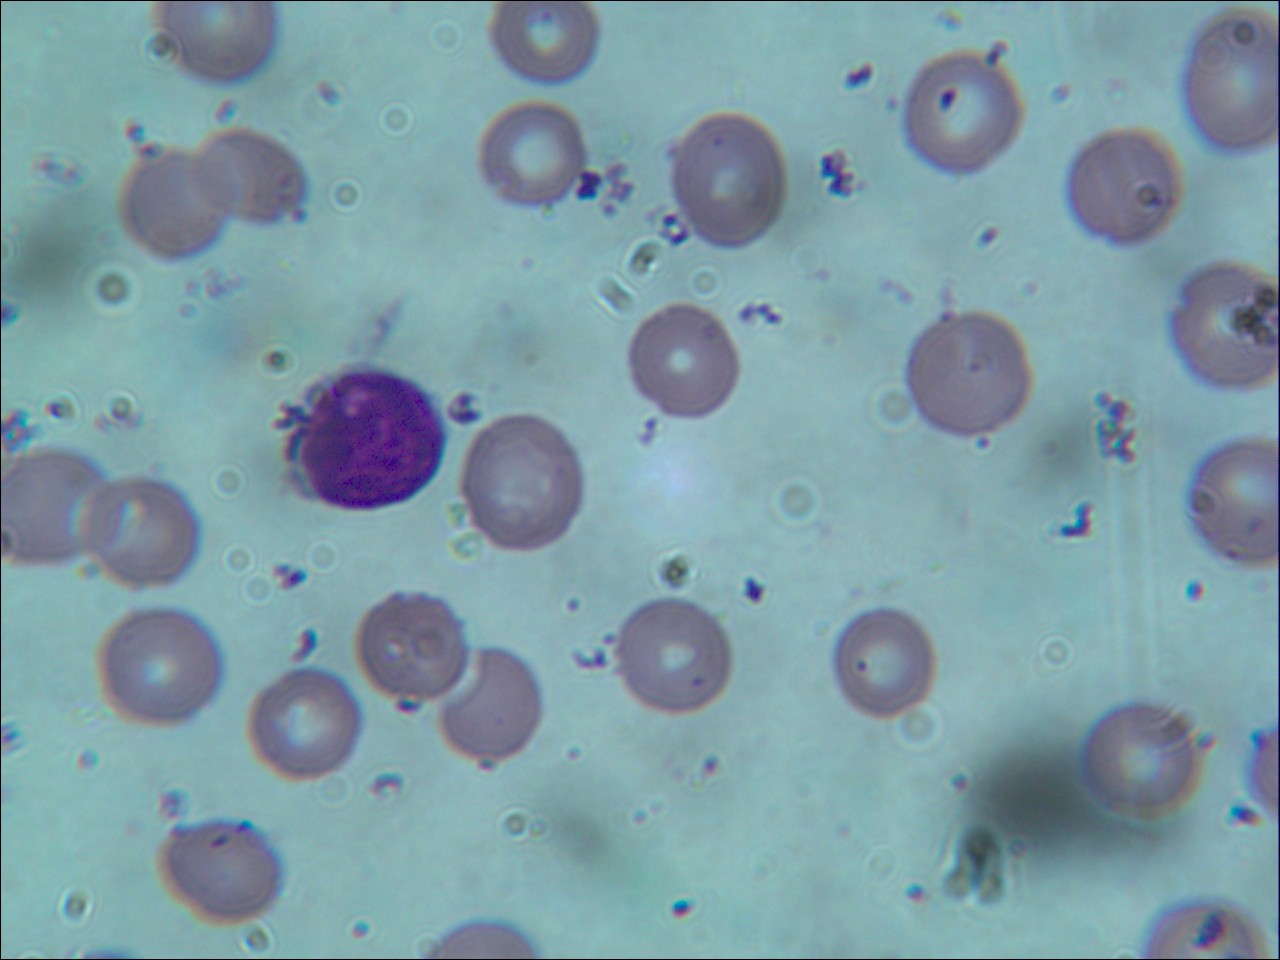Eritrosit: (902, 299, 1031, 442), (455, 412, 586, 552), (671, 112, 795, 255), (95, 596, 218, 734), (74, 472, 208, 593), (902, 53, 1030, 179), (620, 306, 755, 417), (615, 599, 737, 722), (1170, 261, 1280, 396), (353, 581, 473, 702), (156, 811, 283, 925), (1080, 699, 1198, 821), (1064, 131, 1186, 247), (1183, 11, 1280, 155), (1178, 436, 1280, 568), (834, 609, 948, 724), (474, 102, 587, 214), (121, 152, 231, 267), (248, 668, 356, 784), (445, 644, 543, 771), (2, 450, 102, 571), (190, 127, 309, 228), (149, 1, 286, 87), (492, 1, 599, 84), (561, 592, 587, 618)
Limfoblast: (290, 367, 446, 512)
Platelet: (692, 746, 728, 794), (111, 111, 150, 153), (739, 572, 774, 617), (839, 56, 880, 93), (970, 224, 1012, 258), (1175, 574, 1214, 609), (895, 877, 931, 914), (211, 94, 248, 125), (574, 165, 605, 203), (661, 894, 695, 927), (308, 77, 342, 108), (345, 917, 377, 946), (1226, 801, 1254, 829), (1046, 80, 1073, 108), (949, 765, 975, 796), (931, 87, 962, 112), (684, 671, 712, 697), (287, 200, 311, 228), (968, 430, 990, 458), (284, 569, 306, 590)
